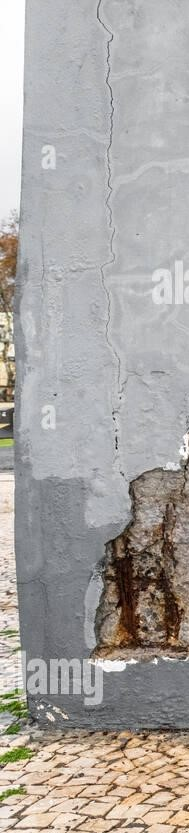Crack: (97, 1, 129, 483)
Exposed reinforcement: (111, 536, 136, 639), (154, 567, 181, 642), (96, 641, 189, 653), (103, 575, 159, 583)
Spalling: (84, 429, 189, 673)
